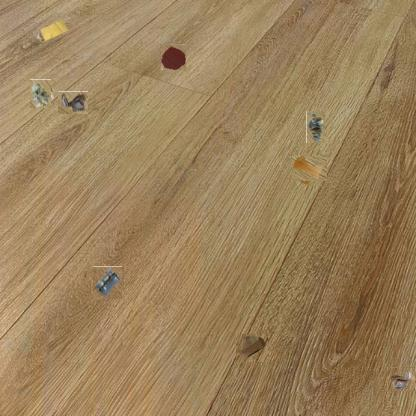dirty: (92, 267, 123, 299), (236, 334, 268, 362), (38, 17, 70, 43), (58, 91, 88, 114), (387, 367, 415, 391), (28, 81, 53, 107), (306, 111, 325, 143)
liquid: (294, 153, 325, 184), (160, 44, 186, 70)
